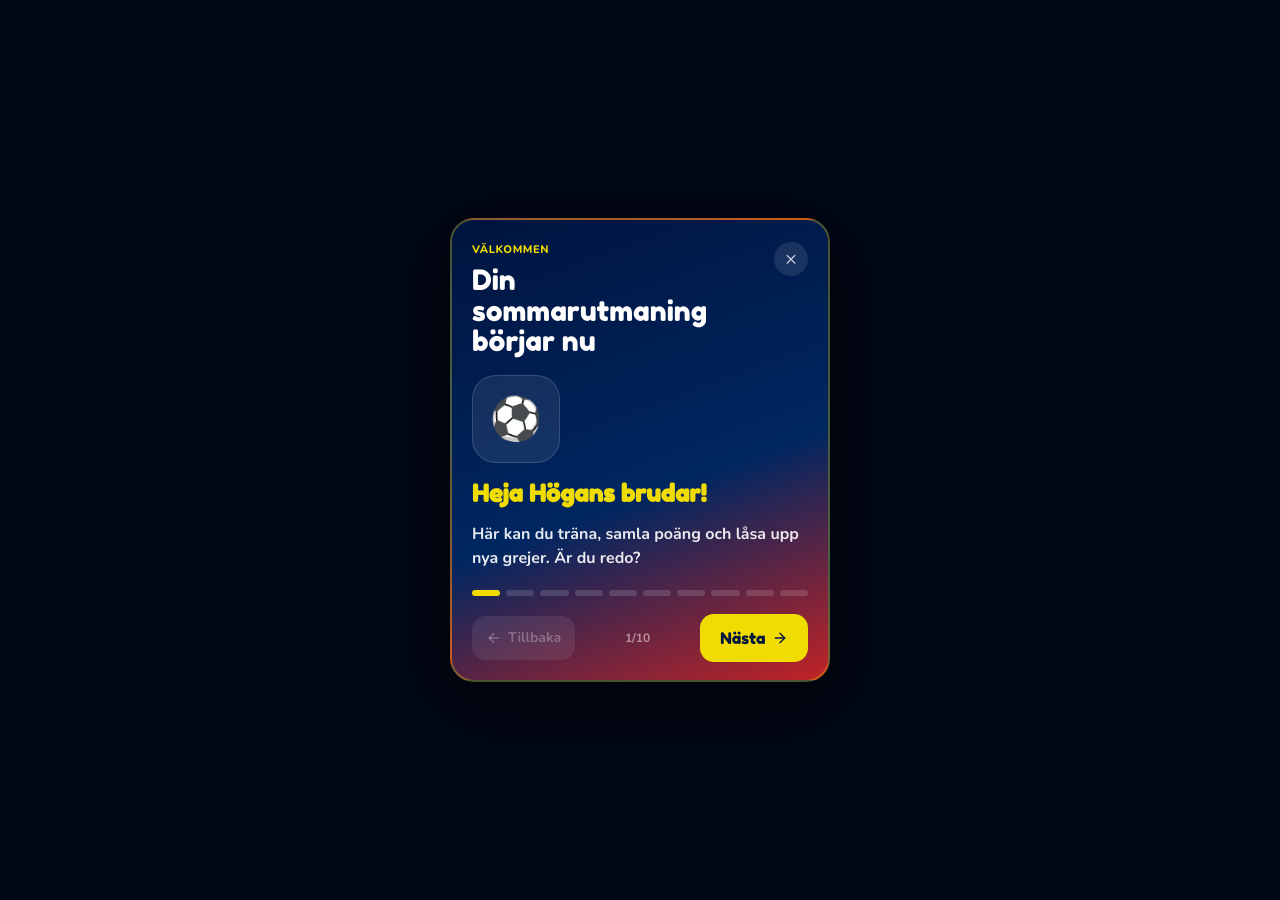
IntroCarousel swipe navigation › goes back on a right swipe
The image size is (1280, 900).
Press the mouse on the button at [640, 450], box top-left (0, 0), bottom-right (1279, 899)
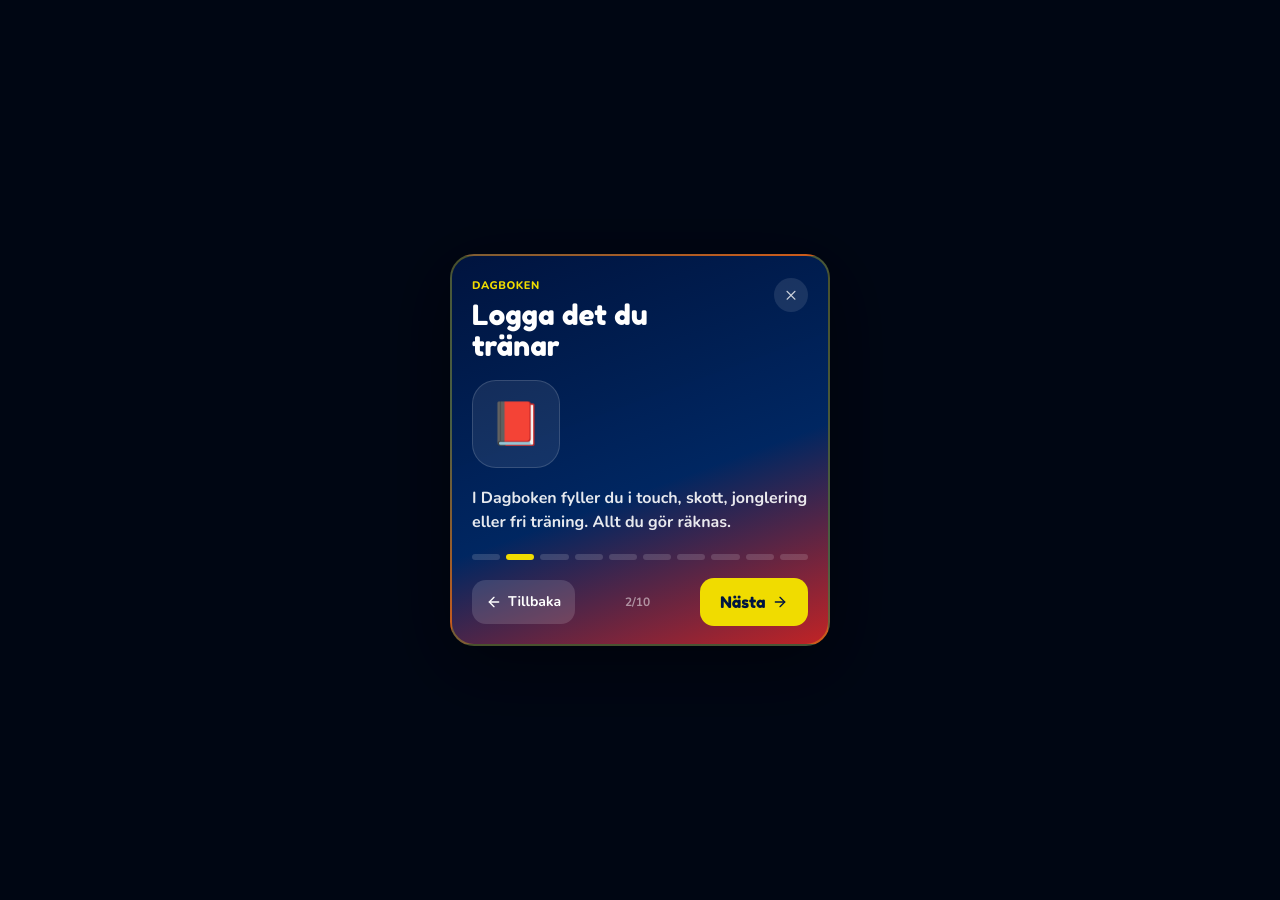
Expected: the text "2/10" is shown, top-left (625, 594), bottom-right (650, 610)
Press the mouse on the button at [640, 450], box top-left (0, 0), bottom-right (1279, 899)
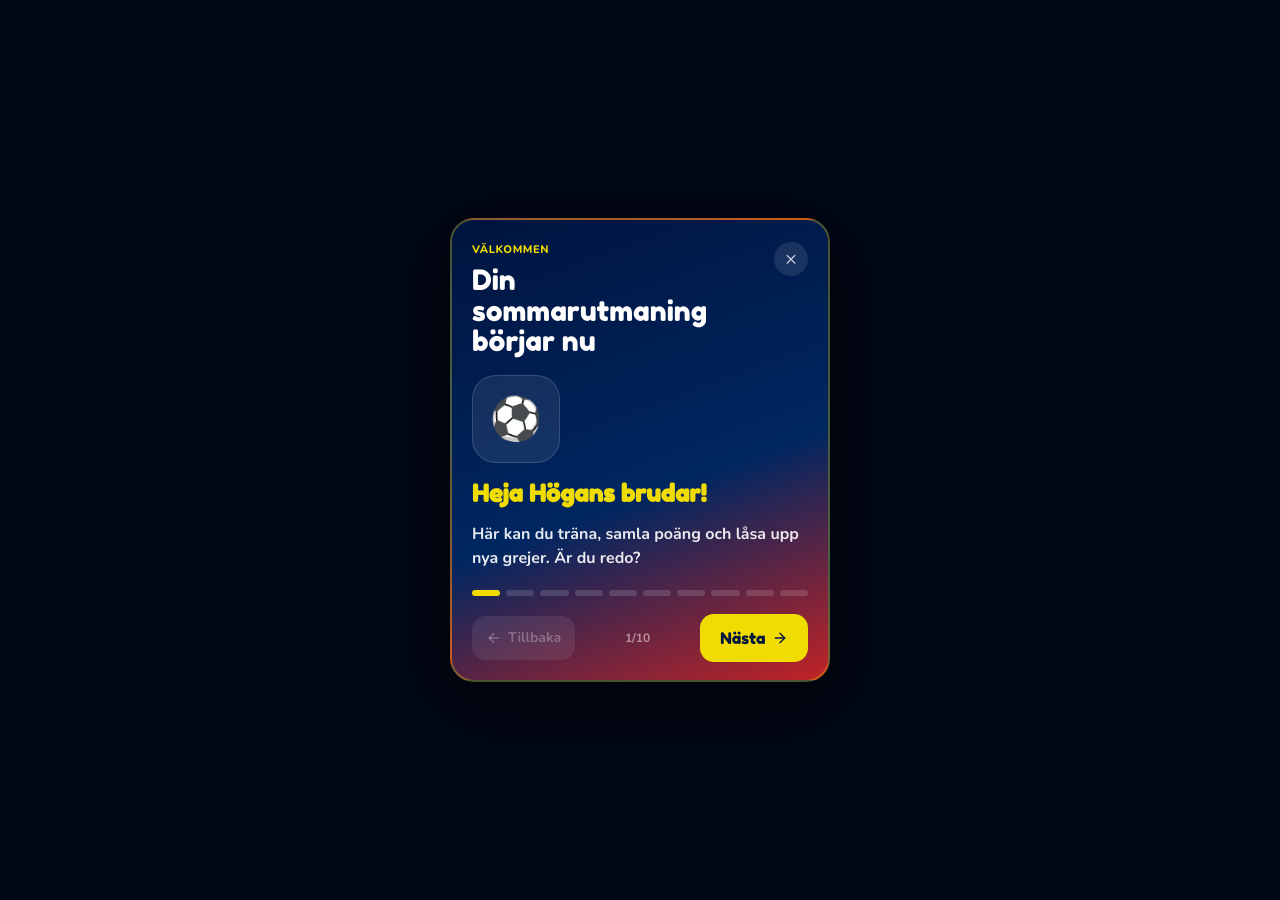
Expected: the text "1/10" is shown, top-left (625, 630), bottom-right (650, 646)
